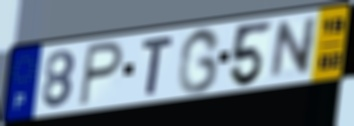5: (226, 19, 275, 88)
8: (41, 49, 76, 109)
G: (175, 26, 223, 96)
N: (268, 14, 320, 83)
P: (76, 39, 126, 109)
T: (140, 34, 176, 97)
